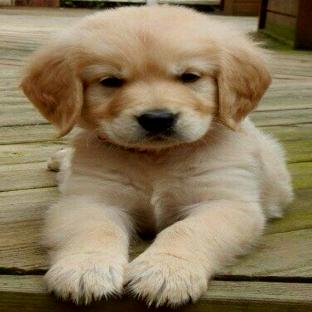Animal: (20, 5, 292, 306)
